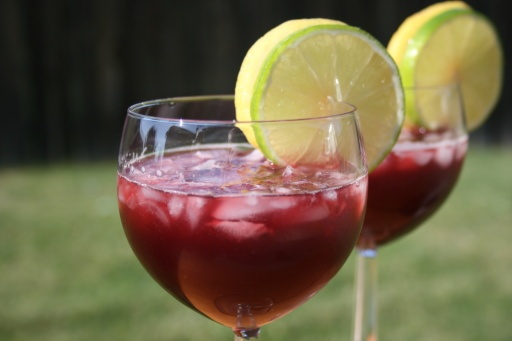background: (91, 1, 403, 176)
